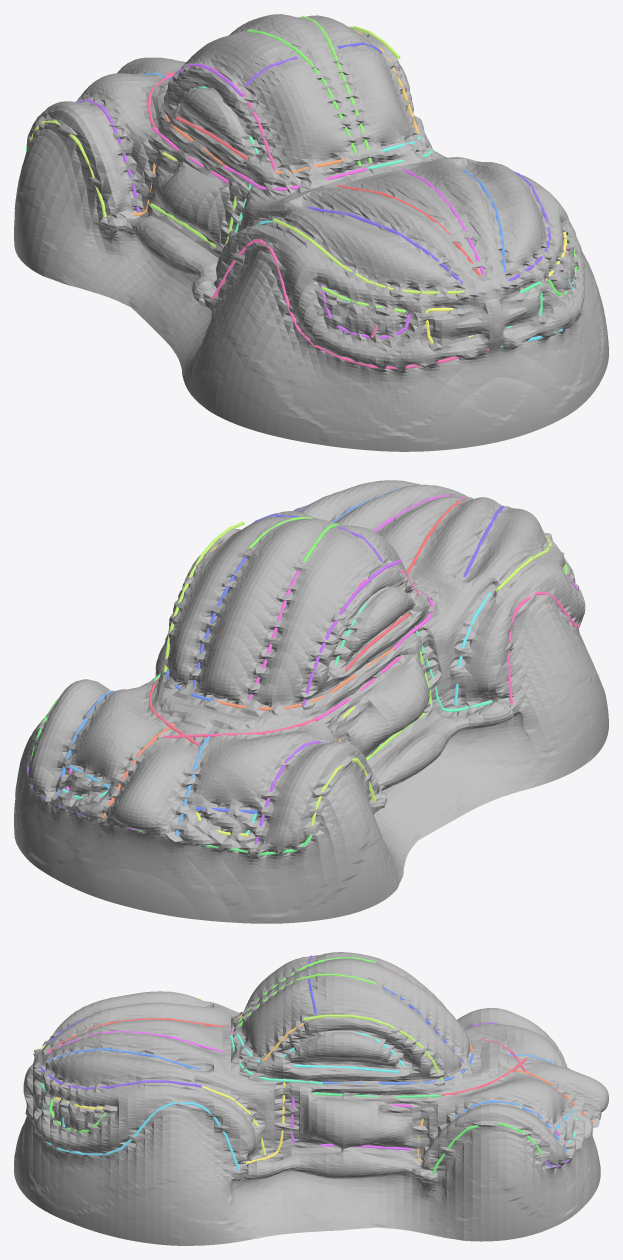
File: author1_car.gltf
3 views of the same model, one above another, from view 1: azimuth 30°, elevation 25°; view 2: azimuth 150°, elevation 25°; view 3: azimuth 270°, elevation 25° (orthographic). The views are drawn at different scales.
Bounding box in the file's own units: 0.5326 × 0.3523 × 0.9047.
